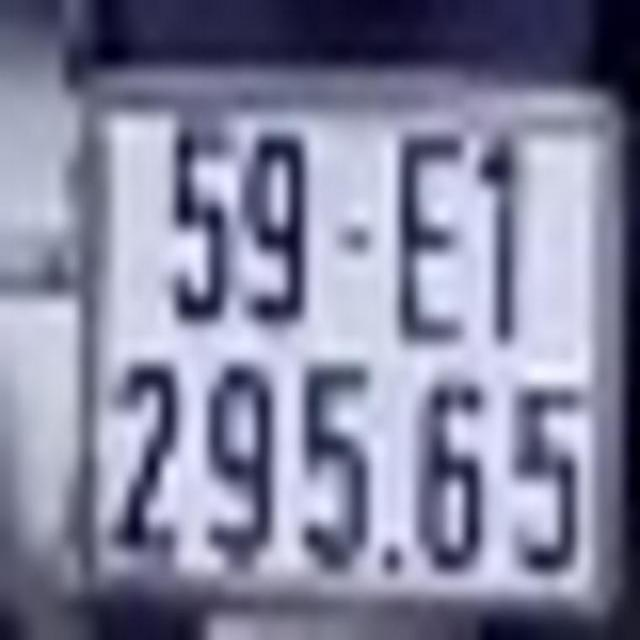1: (474, 128, 521, 345)
2: (108, 364, 178, 556)
5: (299, 355, 373, 576), (512, 381, 586, 574), (170, 122, 233, 321)
6: (419, 372, 487, 575)
9: (209, 356, 273, 570), (241, 126, 306, 324)
E: (398, 127, 468, 346)
